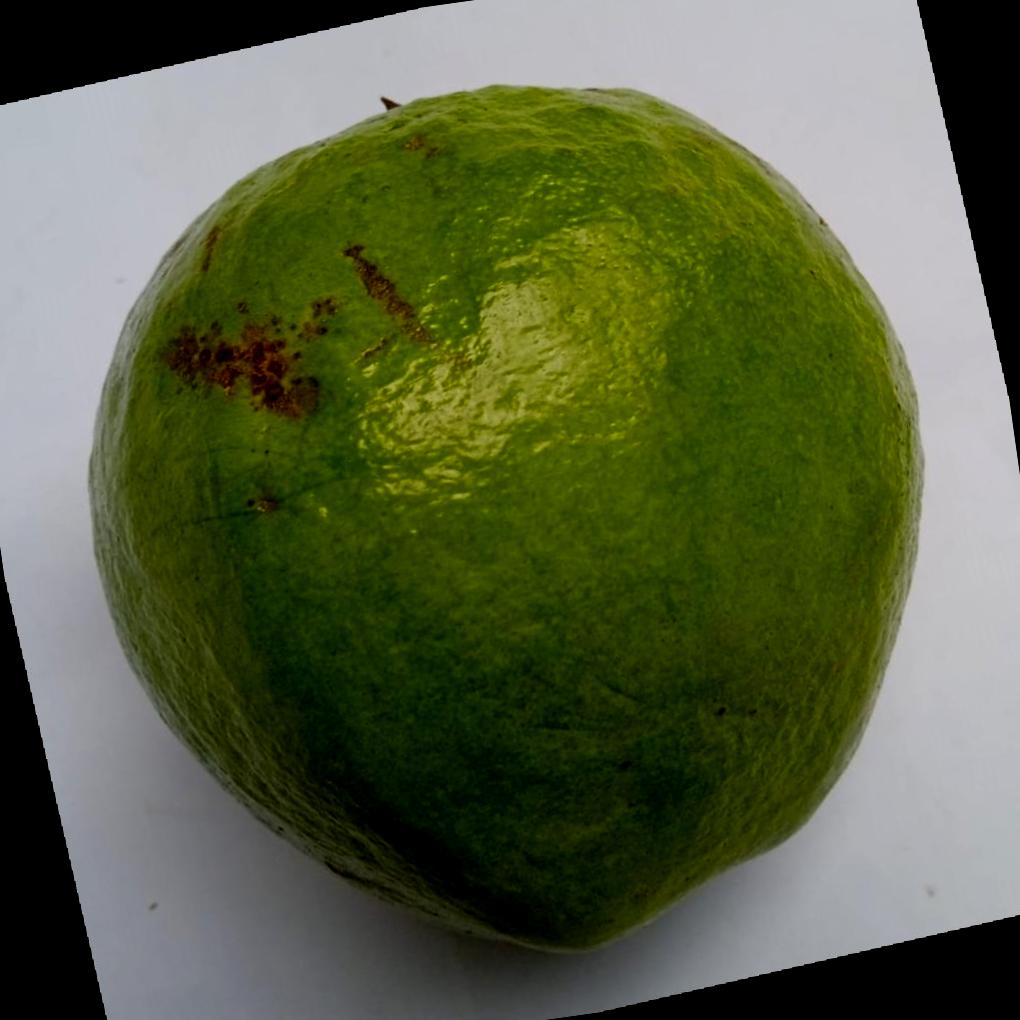FreshGuava: (87, 85, 927, 958)
